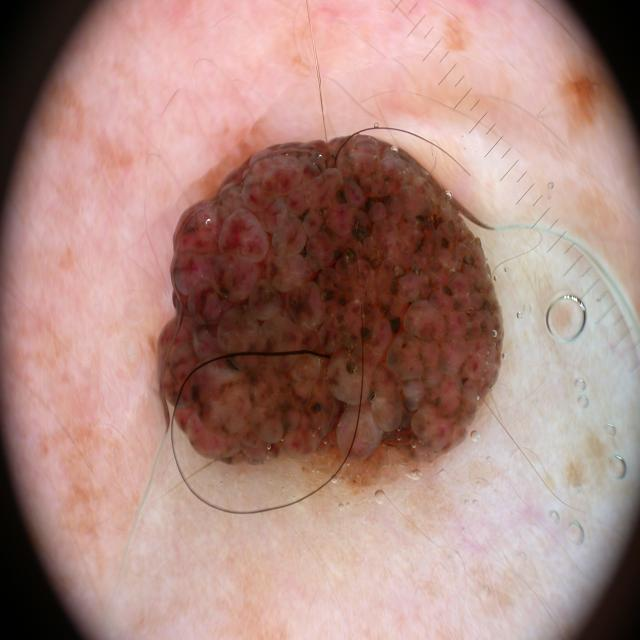Benign: (152, 121, 516, 502)
